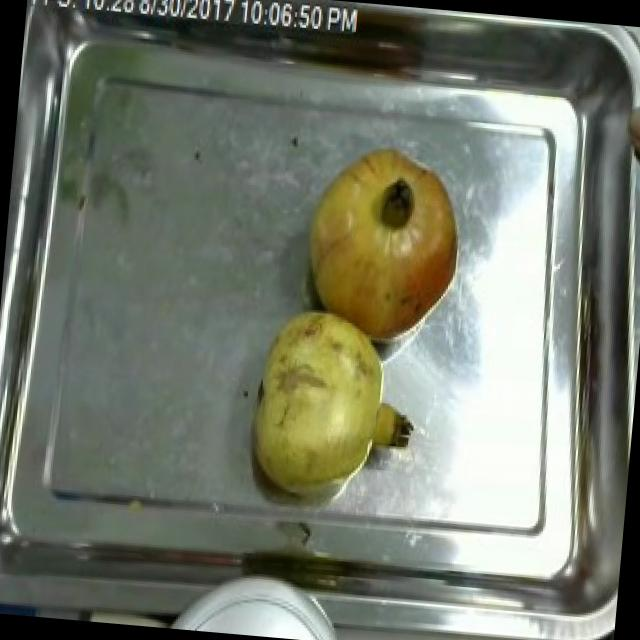fruit: (238, 292, 424, 514), (288, 132, 470, 354), (618, 87, 640, 194)
